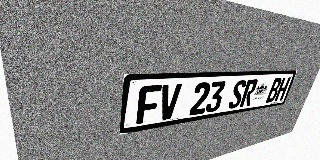2: (189, 82, 212, 116)
3: (205, 81, 226, 113)
B: (265, 78, 283, 103)
F: (136, 85, 162, 124)
H: (274, 77, 291, 101)
R: (239, 79, 258, 107)
S: (227, 80, 247, 109)
V: (157, 83, 182, 121)
